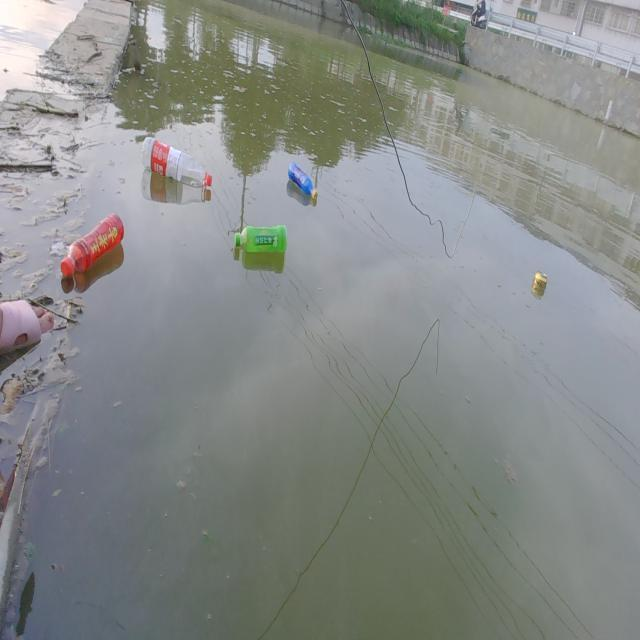garbage: (60, 211, 124, 277), (141, 135, 213, 193), (0, 296, 54, 352), (234, 224, 287, 254), (288, 160, 318, 202)
